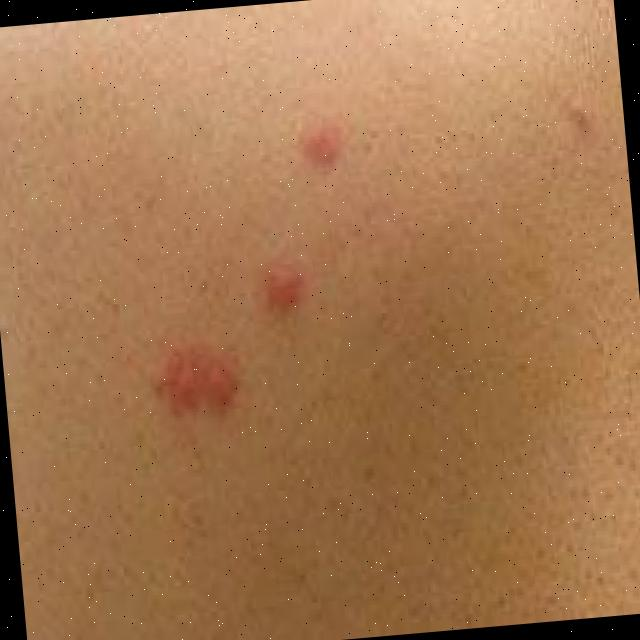kan emici bocekler: (156, 349, 237, 420), (302, 124, 350, 175), (272, 256, 312, 308)
